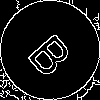B: (25, 25, 82, 81)
